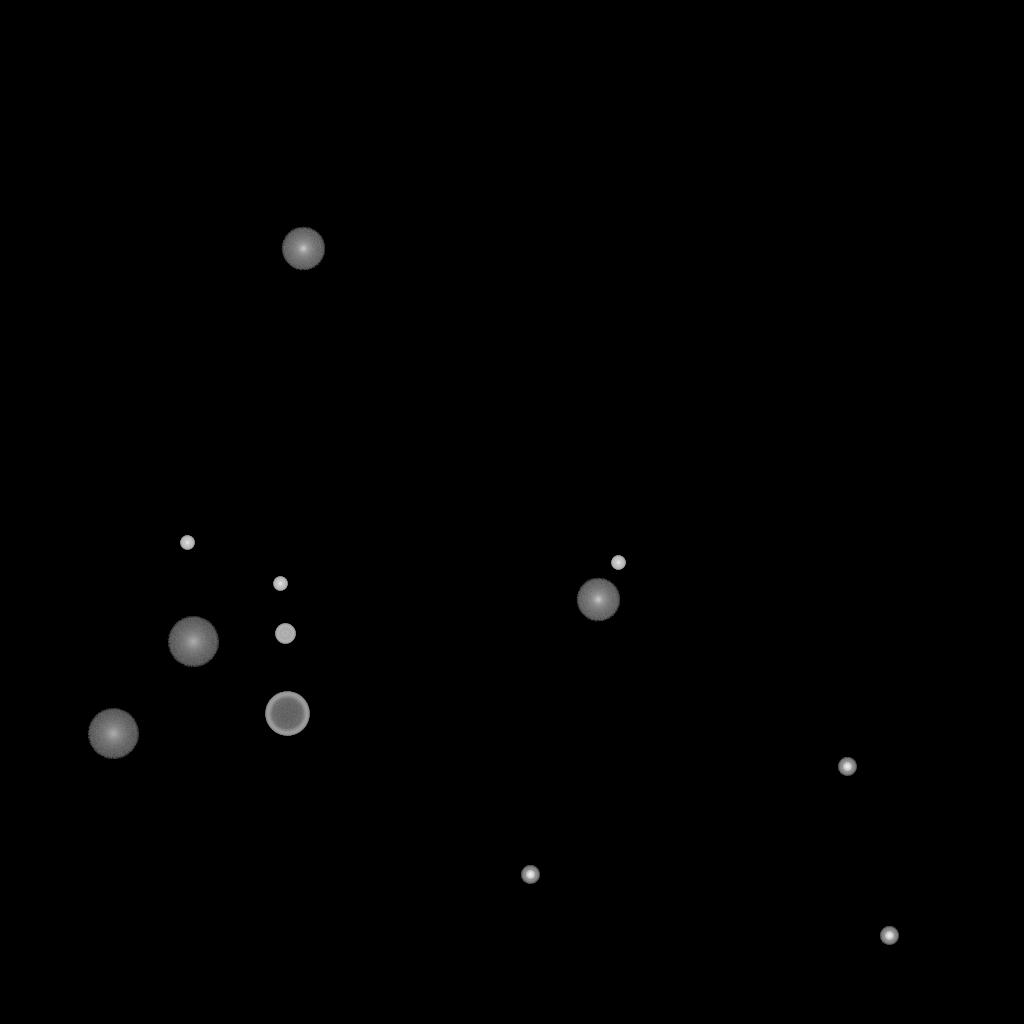depth:-20: (838, 758, 856, 776), (880, 927, 898, 945), (521, 866, 539, 884)
depth:-30: (273, 577, 287, 591), (180, 536, 194, 550), (611, 556, 625, 570)
depth:-40: (275, 624, 295, 644)
depth:-70: (265, 692, 309, 736)
depth:10: (576, 578, 620, 622), (281, 227, 325, 271)
depth:20: (167, 617, 219, 667), (87, 709, 139, 759)
